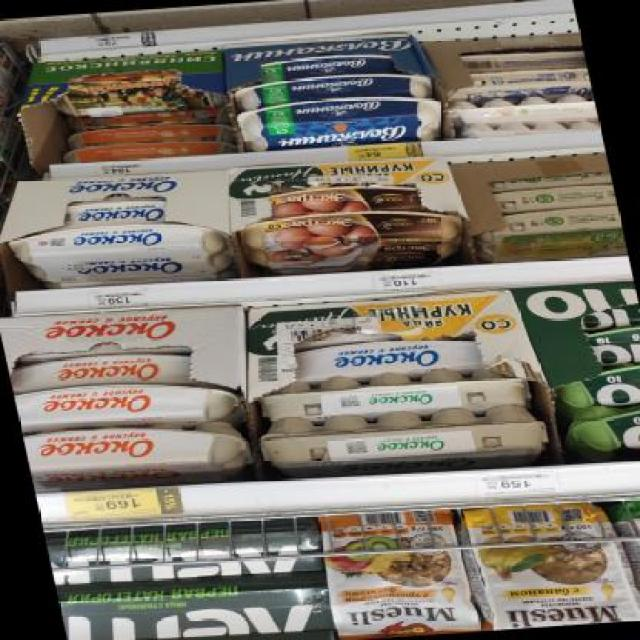Egg: (453, 497, 639, 631), (258, 401, 554, 482), (311, 507, 484, 640), (250, 362, 538, 423), (9, 218, 239, 285), (238, 206, 470, 272), (292, 334, 486, 380), (559, 402, 639, 464), (550, 361, 640, 412), (62, 198, 172, 230), (616, 492, 639, 620), (585, 324, 640, 368), (581, 304, 639, 331)
